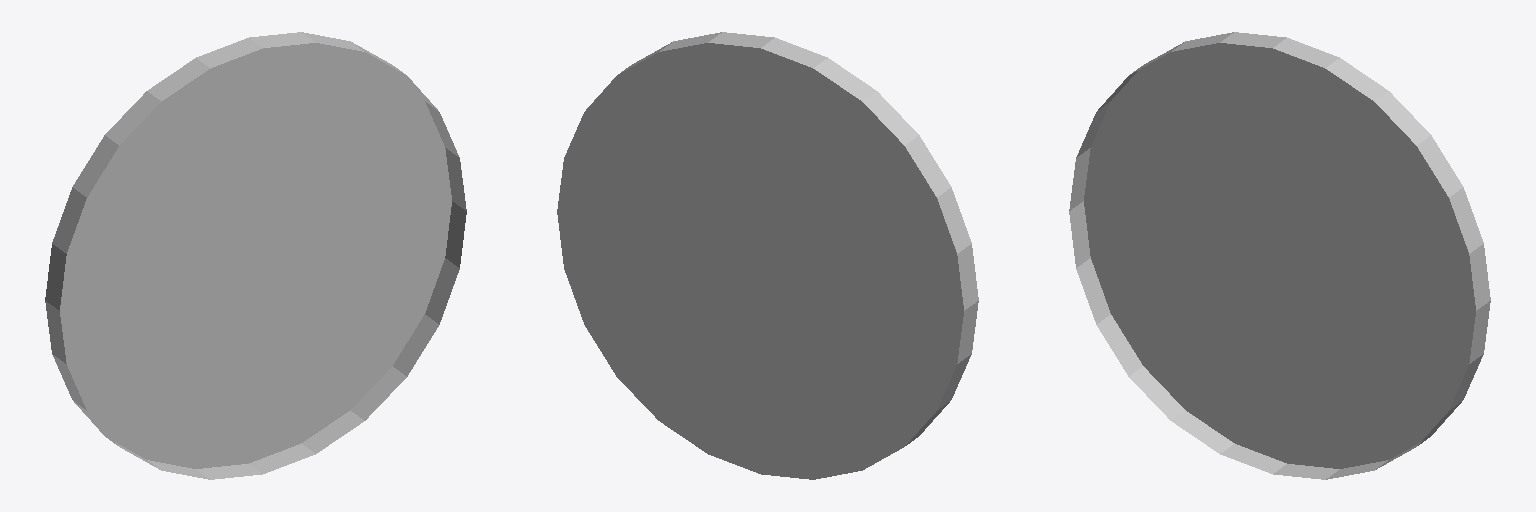
The model's file is original-47.obj.
3 renders of one model, left to right at view 1: azimuth 30°, elevation 25°; view 2: azimuth 150°, elevation 25°; view 3: azimuth 330°, elevation 25°, orthographic.
Visible parts, largest first — view 1: #ID339; view 2: #ID339; view 3: #ID339.
Part boxes in pixels (x1,y1,x2,y2): #ID339: (45,32,466,479); #ID339: (557,32,978,479); #ID339: (1069,32,1490,479).
Size of the model in its own units: 0.1203 by 0.1203 by 0.0075.